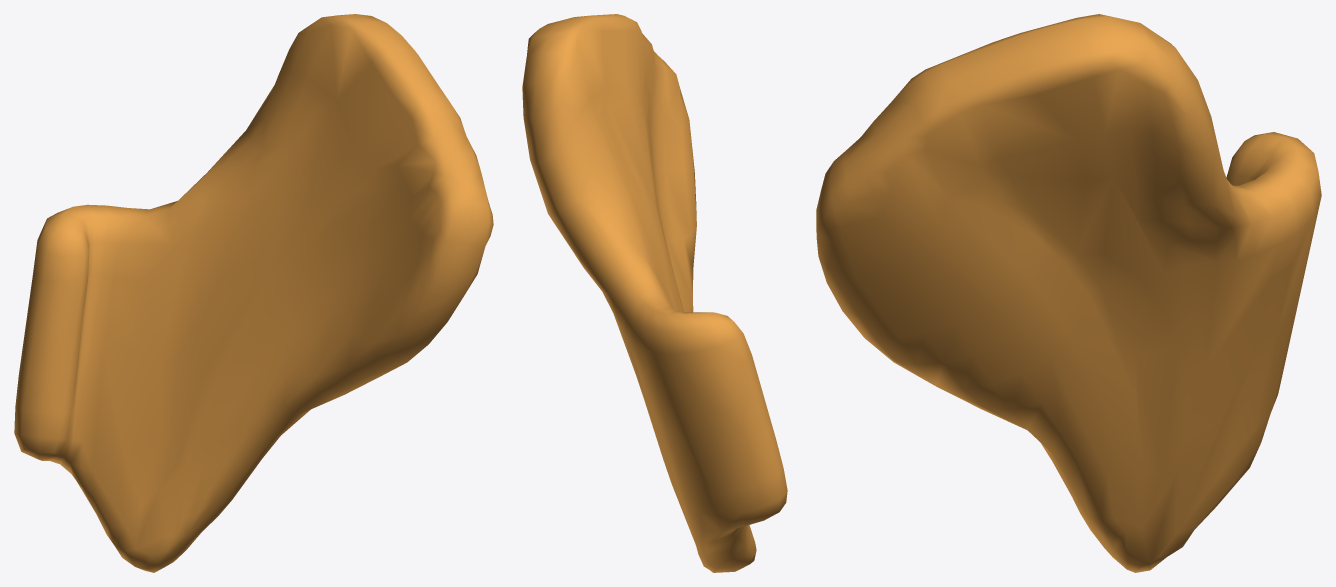
File: visceras-parotid-gland-l.glb
3 renders of one model, left to right at view 1: azimuth 30°, elevation 25°; view 2: azimuth 150°, elevation 25°; view 3: azimuth 270°, elevation 25°, orthographic. The views are drawn at different scales.
Visible parts, largest first — view 1: Parotid gland.l; view 2: Parotid gland.l; view 3: Parotid gland.l.
Part boxes in pixels (x1,y1,x2,y2): Parotid gland.l: (14,14,493,572); Parotid gland.l: (522,14,787,572); Parotid gland.l: (816,14,1321,572).
Bounding box in the file's own units: 0.0314 × 0.0476 × 0.0331.
